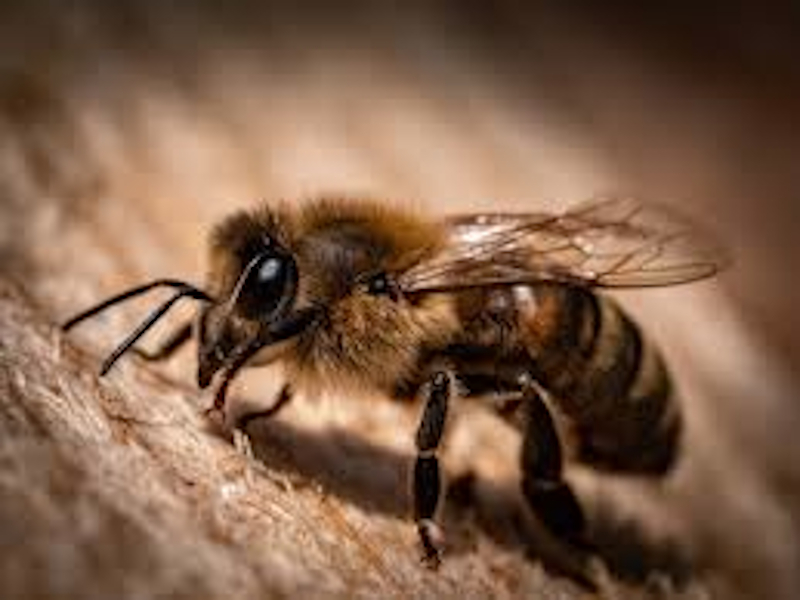abeja: (70, 156, 749, 592)
